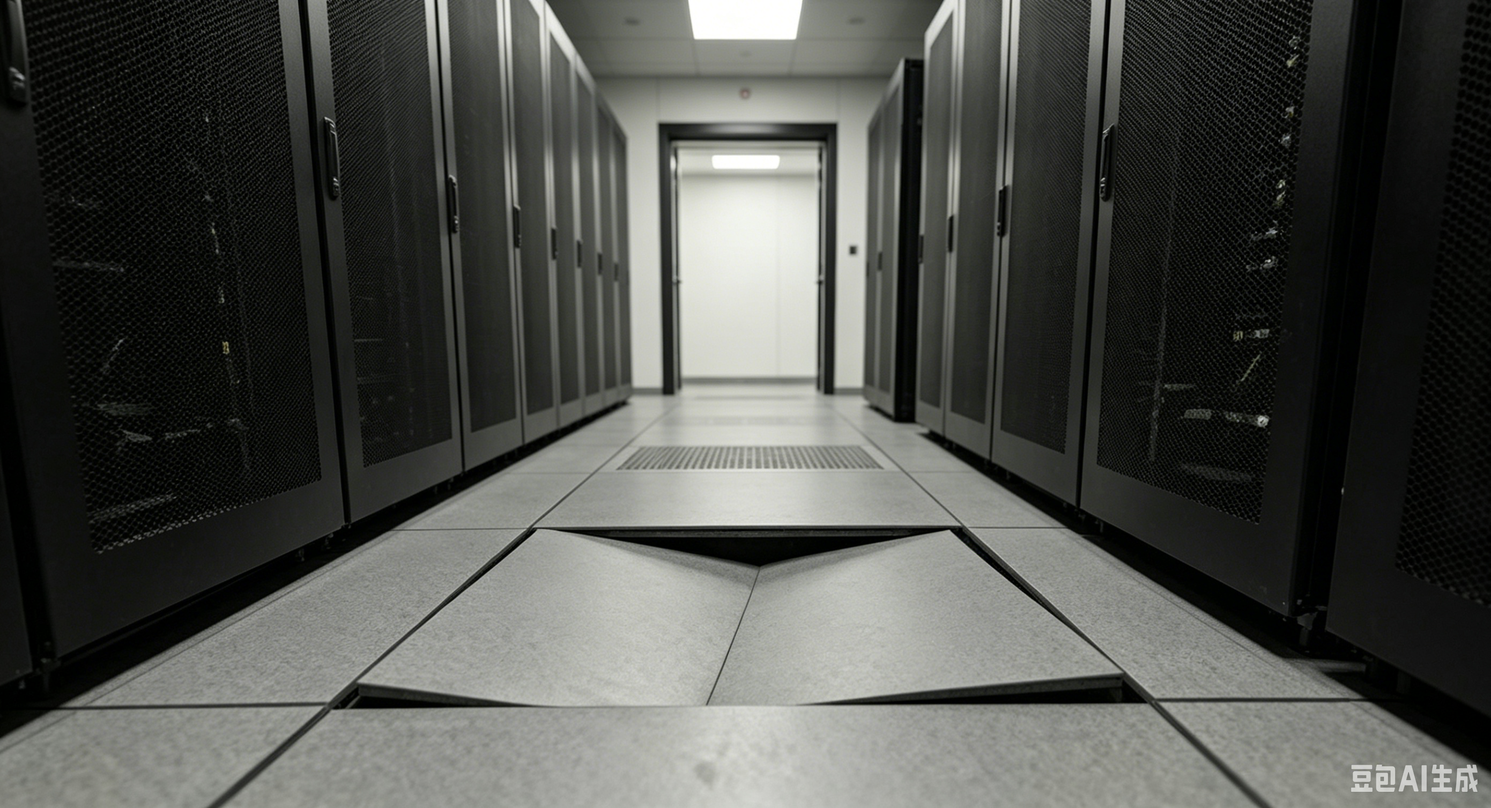floor_defect: (321, 518, 1148, 719)
